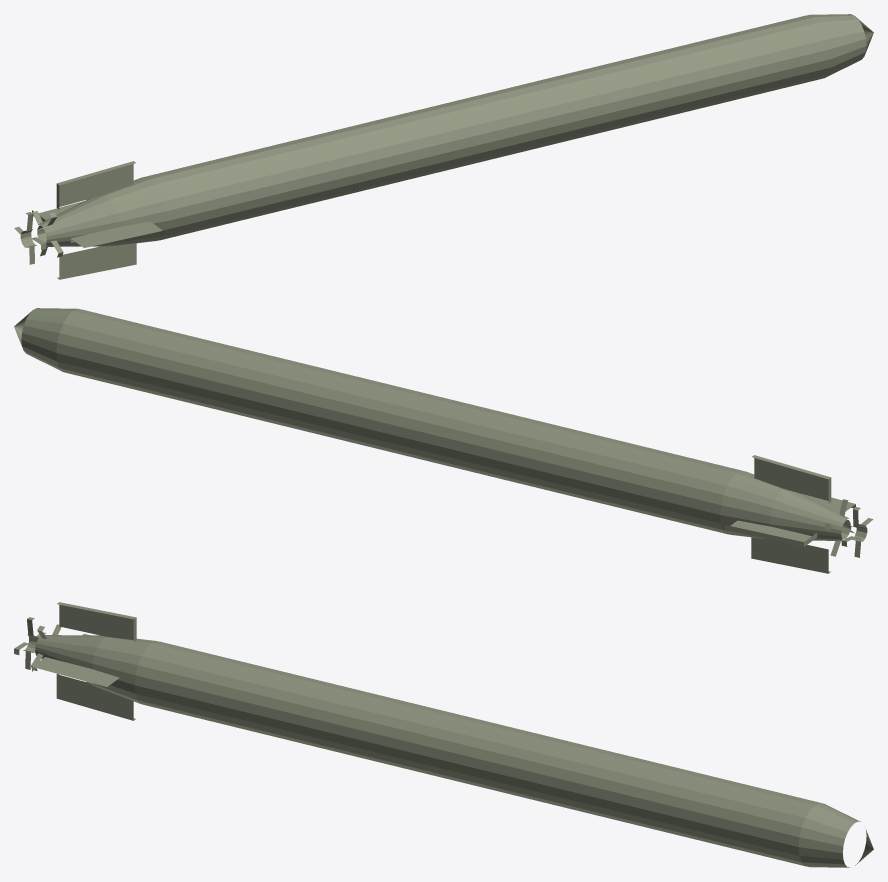
The model's file is USET80_review.glb.
The picture shows the model from 3 angles, top to bottom: view 1: azimuth 30°, elevation 25°; view 2: azimuth 150°, elevation 25°; view 3: azimuth 330°, elevation 25°; orthographic projection.
Visible parts, largest first — view 1: SM_USET80_Draft; view 2: SM_USET80_Draft; view 3: SM_USET80_Draft.
Part boxes in pixels (<box>): SM_USET80_Draft: <box>14,14,873,279</box>; SM_USET80_Draft: <box>14,308,873,573</box>; SM_USET80_Draft: <box>14,602,873,867</box>.
Bounding box in the file's own units: 7.93 × 0.9061 × 0.9061.
